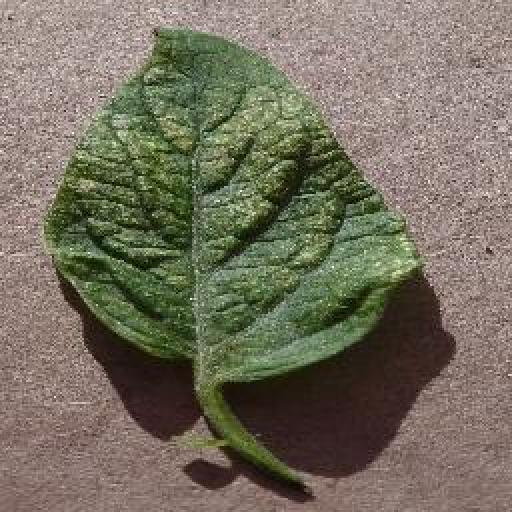disease_tomato: (44, 28, 416, 385)
